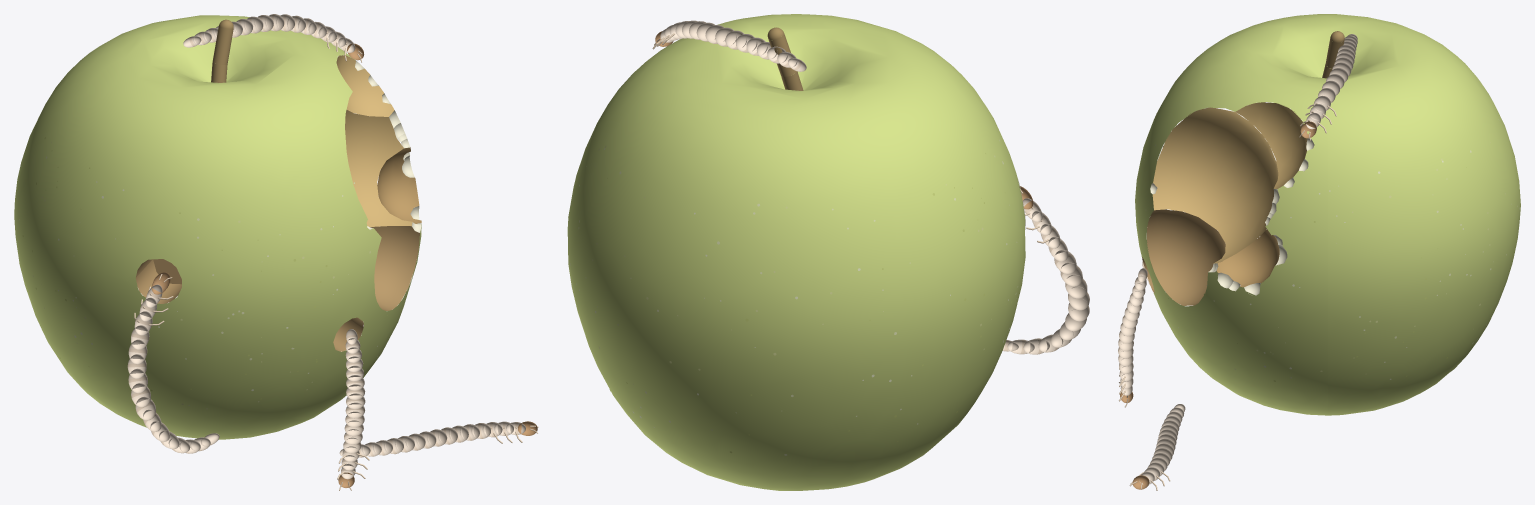
Rendered from apple.glb.
The picture shows the model from 3 angles, left to right: view 1: azimuth 30°, elevation 25°; view 2: azimuth 150°, elevation 25°; view 3: azimuth 270°, elevation 25°; orthographic projection. The views are drawn at different scales.
Visible parts, largest first — view 1: Grönt äppelskal, Urätet fruktkött (×5), Skaft; view 2: Grönt äppelskal, Skaft; view 3: Grönt äppelskal, Urätet fruktkött (×4), Skaft.
Boxes of the visible parts, <box> form: Grönt äppelskal: <box>14,15,421,439</box>; Urätet fruktkött (×5): <box>135,55,421,310</box>; Skaft: <box>211,19,233,82</box>; Grönt äppelskal: <box>567,14,1025,490</box>; Skaft: <box>767,27,803,90</box>; Grönt äppelskal: <box>1135,14,1520,415</box>; Urätet fruktkött (×4): <box>1147,102,1307,305</box>; Skaft: <box>1322,31,1344,78</box>.
Bounding box in the file's own units: 0.0908 × 0.0852 × 0.0841.
